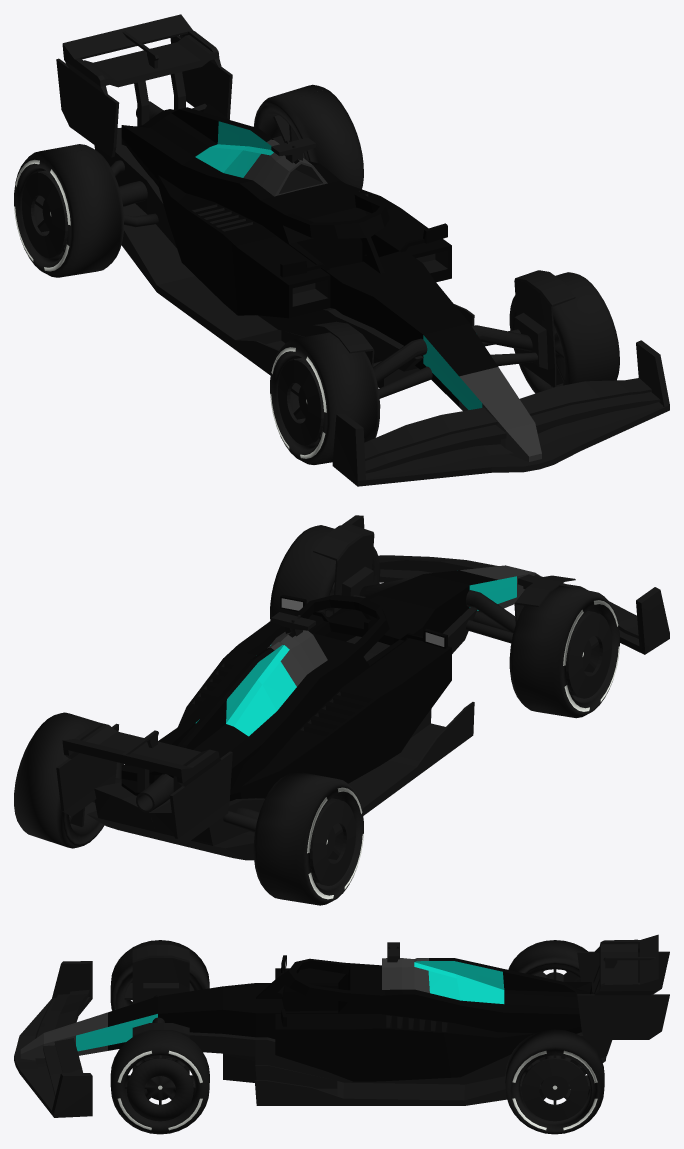
File: mercedes_car.glb
The picture shows the model from 3 angles, top to bottom: view 1: azimuth 30°, elevation 25°; view 2: azimuth 150°, elevation 25°; view 3: azimuth 270°, elevation 25°; orthographic projection. The views are drawn at different scales.
Parts seen in each view (by area): view 1: Base Unsubsurfed, Front Wing Base, Sidepod, Rear Wing, Bottom, RR_Tire, FR_Tire, FL_Tire, RL_Tire, L_Inside Cover, FRod, RRod (+1 smaller); view 2: Base Unsubsurfed, Sidepod, RR_Tire, FR_Tire, Rear Wing, Bottom, RL_Tire, Front Wing Base, FL_Tire, L_Inside Cover, FRod, R_Inside Cover (+3 smaller); view 3: Base Unsubsurfed, Sidepod, Bottom, RL_Tire, FL_Tire, Rear Wing, Front Wing Base, R_Inside Cover, RR_Tire, FR_Tire, L_Inside Cover.
Part boxes in pixels (<box>): Base Unsubsurfed: <box>121,104,541,461</box>; Front Wing Base: <box>332,340,669,486</box>; Sidepod: <box>158,175,451,318</box>; Rear Wing: <box>56,14,232,157</box>; Bottom: <box>94,103,474,387</box>; RR_Tire: <box>14,144,124,277</box>; FR_Tire: <box>270,332,380,464</box>; FL_Tire: <box>509,272,619,393</box>; RL_Tire: <box>253,84,363,189</box>; L_Inside Cover: <box>514,270,575,387</box>; FRod: <box>373,325,538,398</box>; RRod: <box>110,160,158,227</box>; Base Unsubsurfed: <box>121,565,539,801</box>; Sidepod: <box>178,609,451,798</box>; RR_Tire: <box>253,771,363,905</box>; FR_Tire: <box>509,585,619,718</box>; Rear Wing: <box>56,722,232,843</box>; Bottom: <box>87,607,477,860</box>; RL_Tire: <box>14,712,123,848</box>; Front Wing Base: <box>342,515,669,654</box>; FL_Tire: <box>270,525,380,620</box>; L_Inside Cover: <box>313,524,374,614</box>; FRod: <box>353,576,515,643</box>; R_Inside Cover: <box>514,575,575,624</box>; Base Unsubsurfed: <box>20,955,593,1060</box>; Sidepod: <box>275,968,534,1081</box>; Bottom: <box>189,1032,612,1105</box>; RL_Tire: <box>505,1029,604,1134</box>; FL_Tire: <box>110,1031,209,1134</box>; Rear Wing: <box>577,934,669,1039</box>; Front Wing Base: <box>14,961,92,1117</box>; R_Inside Cover: <box>132,945,189,1003</box>; RR_Tire: <box>508,940,587,981</box>; FR_Tire: <box>110,940,209,1010</box>; L_Inside Cover: <box>132,1023,189,1089</box>.
Size of the model in its own units: 5.15 by 2.77 by 12.15.
